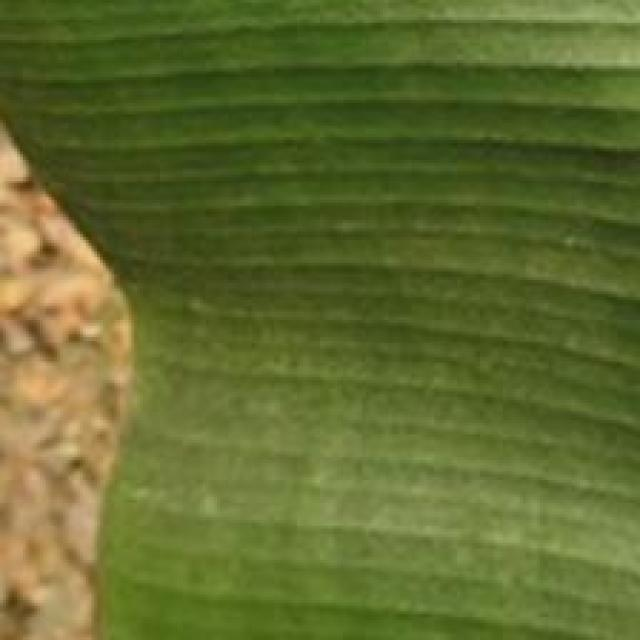Black_leaf_spot: (32, 0, 637, 637)
